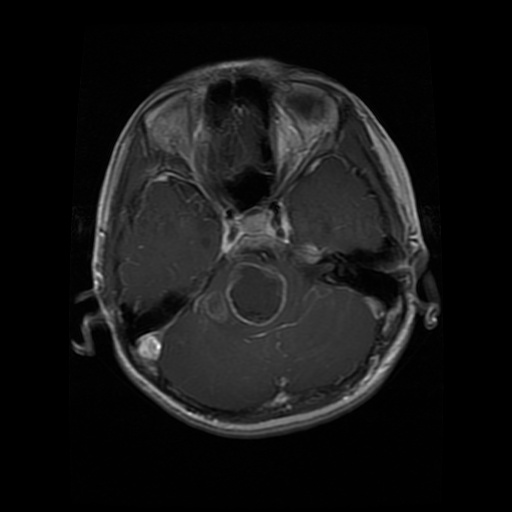glioma: (227, 260, 286, 326)
